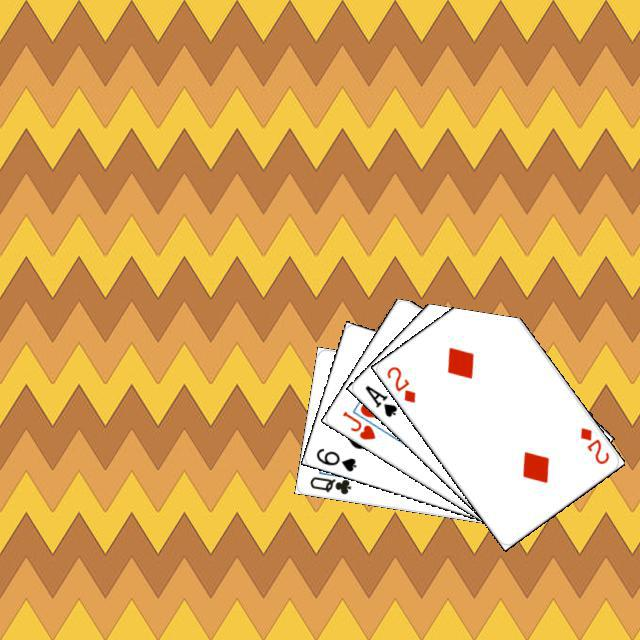2d: (575, 422, 611, 466), (382, 361, 417, 405)
6s: (311, 443, 358, 473)
As: (360, 380, 399, 419)
Jh: (337, 406, 377, 442)
Qc: (305, 465, 358, 496)
